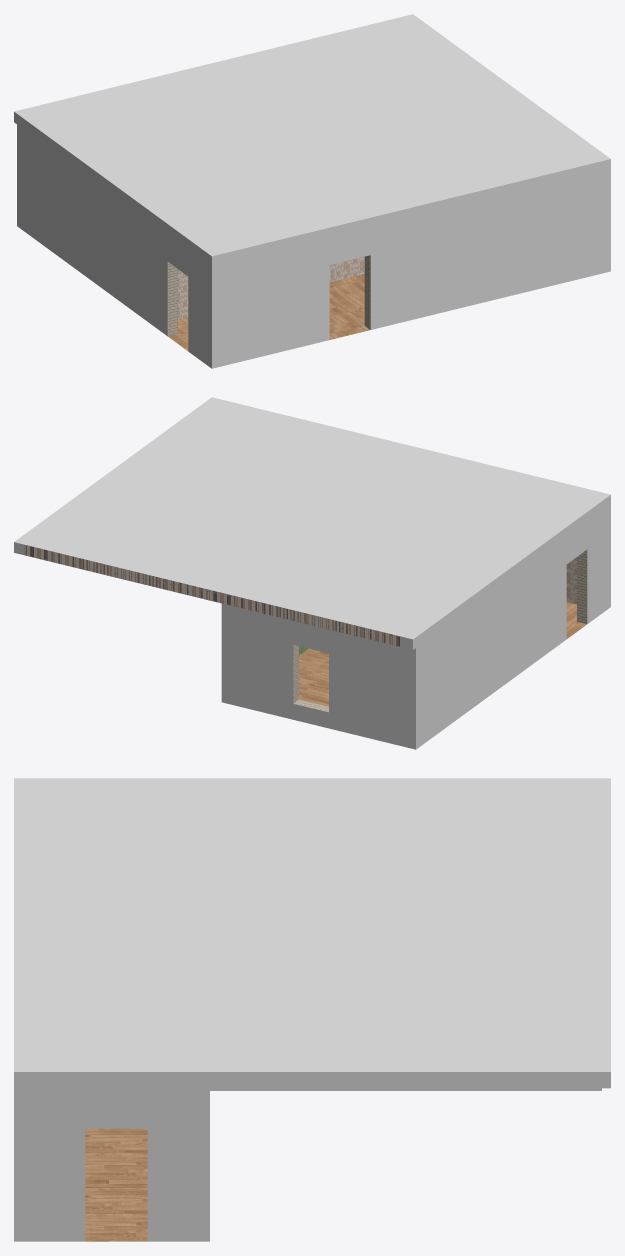
Rendered from hata.fbx.
3 views of the same model, one above another, from view 1: azimuth 30°, elevation 25°; view 2: azimuth 150°, elevation 25°; view 3: azimuth 270°, elevation 25° (orthographic). The views are drawn at different scales.
Visible parts, largest first — view 1: Plane; view 2: Plane; view 3: Plane.
Part boxes in pixels (box(x1,y1,x2,y2)): Plane: box(14, 14, 610, 368); Plane: box(14, 397, 610, 749); Plane: box(14, 778, 610, 1241).
Size of the model in its own units: 7800 by 2100 by 6700.
